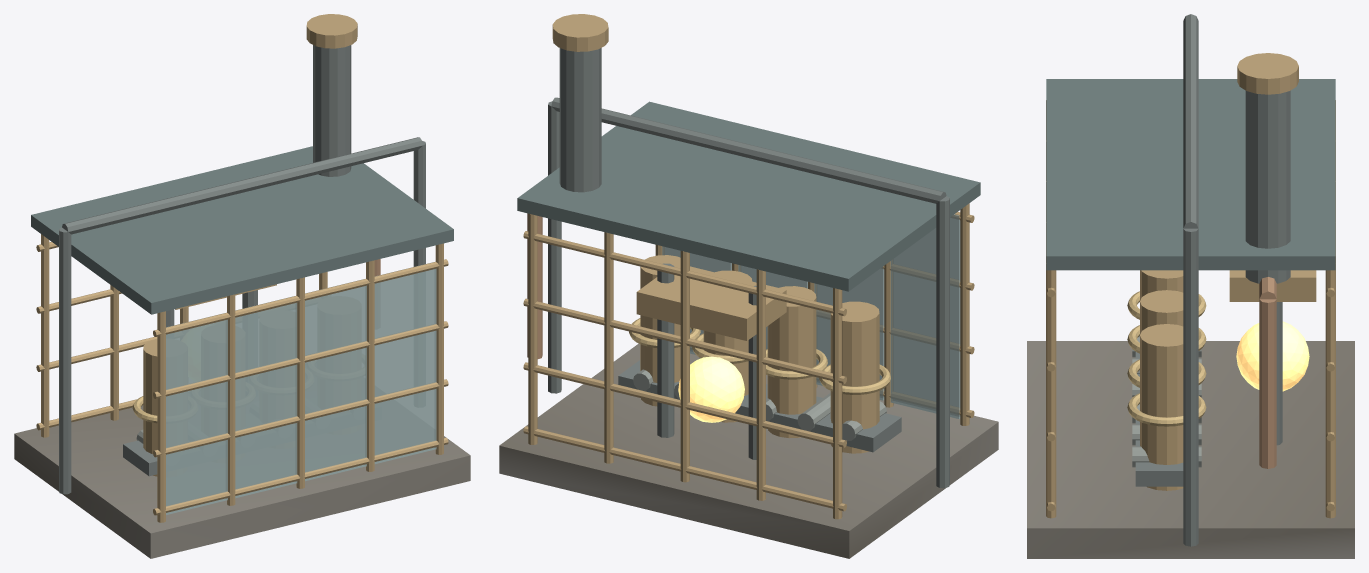
Rendered from context-works.glb.
The picture shows the model from 3 angles, left to right: view 1: azimuth 30°, elevation 25°; view 2: azimuth 150°, elevation 25°; view 3: azimuth 270°, elevation 25°; orthographic projection. The views are drawn at different scales.
Visible parts, largest first — view 1: context_roof, context_plinth, glass_front_-0.5, glass_front_1.5, glass_front_0.5, glass_front_-1.5, gantry_top, context_stack, gantry_leg_l, frame_top_2.95, frame_top_1.3, frame_top_0.5 (+14 smaller); view 2: context_roof, context_plinth, glass_front_-1.5, context_stack, press_head, gantry_top, sorter_1, sorter_0, gantry_leg_l, gantry_leg_r, capsule_chamber, conveyor (+23 smaller); view 3: context_plinth, context_roof, context_stack, sorter_3, gantry_leg_r, gantry_top, context_pipe_b, capsule_chamber, frame_front_2.0, frame_back_2.0, context_stack_cap, press_head (+5 smaller).
Boxes of the visible parts, x1,y1,x2,y2 form: context_roof: (31,146,453,314); context_plinth: (14,405,470,558); glass_front_-0.5: (235,296,297,498); glass_front_1.5: (374,262,436,463); glass_front_0.5: (305,279,366,481); glass_front_-1.5: (166,313,227,514); gantry_top: (62,137,422,234); context_stack: (313,45,351,176); gantry_leg_l: (59,227,71,494); frame_top_2.95: (153,259,448,336); frame_top_1.3: (153,379,448,457); frame_top_0.5: (153,437,448,515); context_roof: (517,101,980,291); context_plinth: (499,343,998,558); glass_front_-1.5: (890,214,960,418); context_stack: (559,48,601,192); press_head: (636,263,786,340); gantry_top: (551,97,946,203); sorter_1: (767,286,816,438); sorter_0: (830,301,879,453); gantry_leg_l: (936,196,949,488); gantry_leg_r: (548,101,561,393); capsule_chamber: (678,356,744,422); conveyor: (618,360,901,452); context_plinth: (1027,341,1354,558); context_roof: (1046,79,1335,270); context_stack: (1245,90,1290,283); sorter_3: (1140,324,1183,490); gantry_leg_r: (1183,228,1198,546); gantry_top: (1183,14,1198,228); context_pipe_b: (1259,299,1276,468); capsule_chamber: (1236,321,1309,391); frame_front_2.0: (1046,263,1056,518); frame_back_2.0: (1325,263,1335,518); context_stack_cap: (1237,53,1298,94); press_head: (1229,270,1316,301).
Size of the model in its own units: 5.26 by 5.39 by 3.4.
